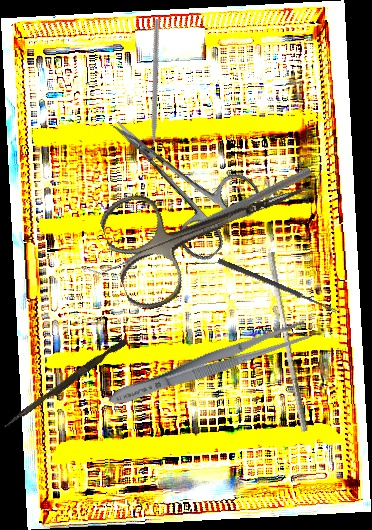Chopper: (80, 93, 313, 345), (83, 18, 218, 163)
Dressing Forceps: (103, 315, 314, 414)
Iris Scissors: (94, 137, 327, 316), (84, 85, 270, 268)
Pusher: (2, 335, 129, 433), (260, 251, 316, 433)
Surgical Spoon: (216, 258, 339, 314)
